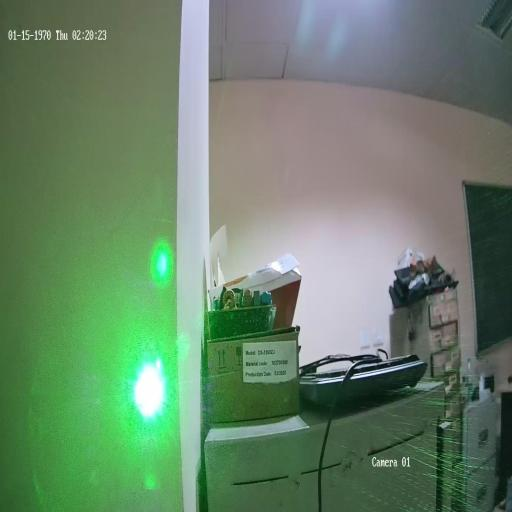laser: (128, 349, 172, 427)
